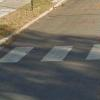Crosswalk: (7, 34, 95, 70)
